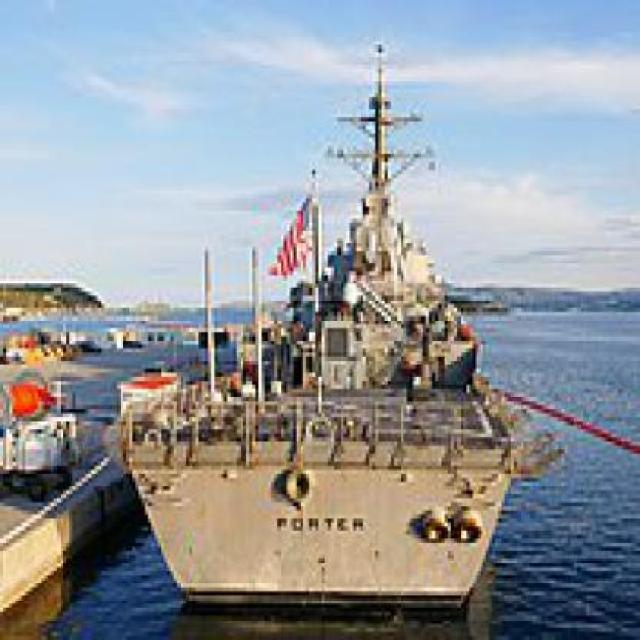warship2: (139, 1, 541, 609)
